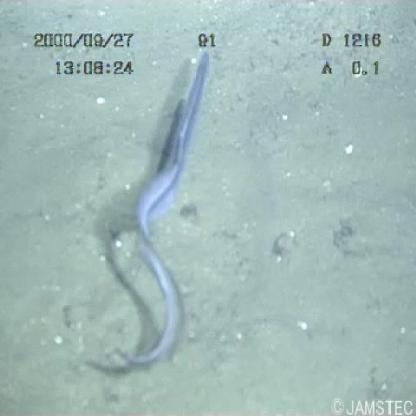Bio: (94, 43, 218, 374)
